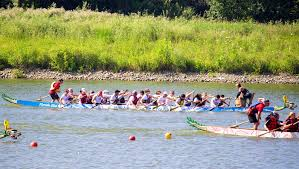boat: (1, 89, 293, 114), (186, 114, 299, 145)
